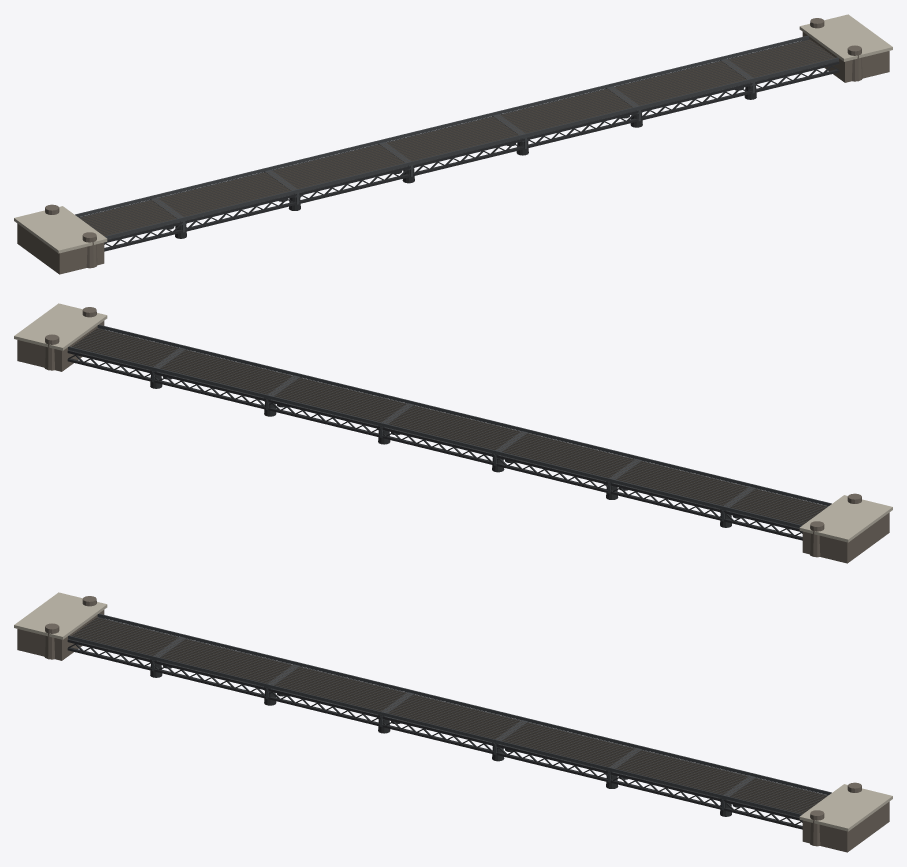
File: hungerford_bridge.glb
3 renders of one model, top to bottom at view 1: azimuth 30°, elevation 25°; view 2: azimuth 150°, elevation 25°; view 3: azimuth 330°, elevation 25°, orthographic.
Visible parts, largest first — view 1: hungerford_bridge; view 2: hungerford_bridge; view 3: hungerford_bridge.
Part boxes in pixels (bbox=[...]): hungerford_bridge: bbox=[14, 14, 892, 274]; hungerford_bridge: bbox=[14, 303, 892, 563]; hungerford_bridge: bbox=[14, 592, 892, 852].
Size of the model in its own units: 410 by 14 by 38.8.
